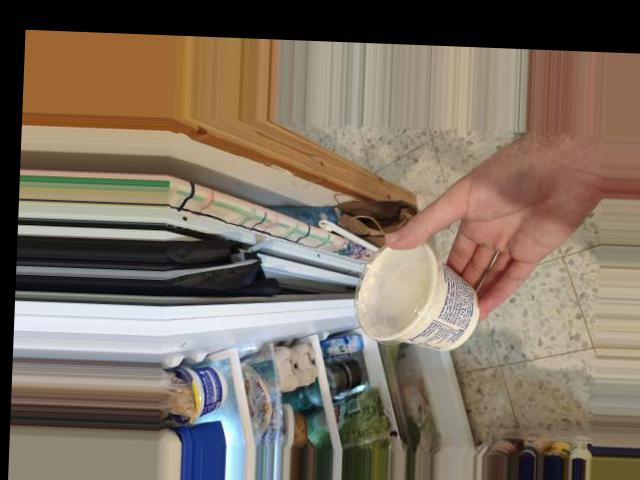cotage: (355, 243, 480, 343)
